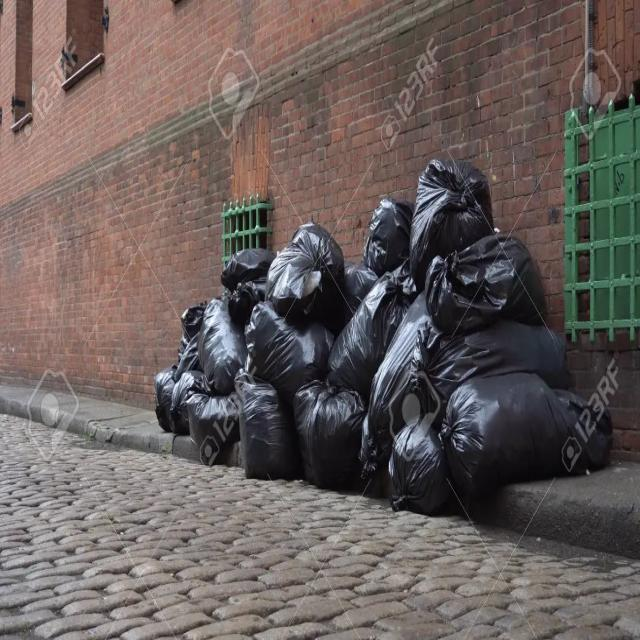Trashbag: (445, 384, 610, 486), (341, 272, 436, 398), (427, 238, 544, 334), (436, 319, 565, 395), (268, 219, 346, 325), (412, 160, 501, 250), (252, 305, 333, 390), (300, 384, 367, 485), (388, 415, 452, 508), (239, 377, 292, 483), (364, 193, 415, 272), (199, 302, 245, 389), (195, 386, 244, 463), (152, 367, 206, 436), (214, 245, 272, 283), (228, 274, 276, 318)
